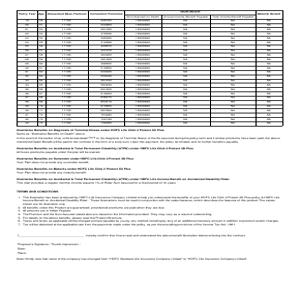table: (17, 11, 283, 127)
text: (16, 195, 281, 227), (15, 242, 248, 264), (16, 128, 281, 144), (15, 176, 230, 185), (15, 146, 196, 154), (85, 232, 246, 239), (15, 155, 136, 164), (16, 165, 133, 174), (15, 188, 59, 193)
